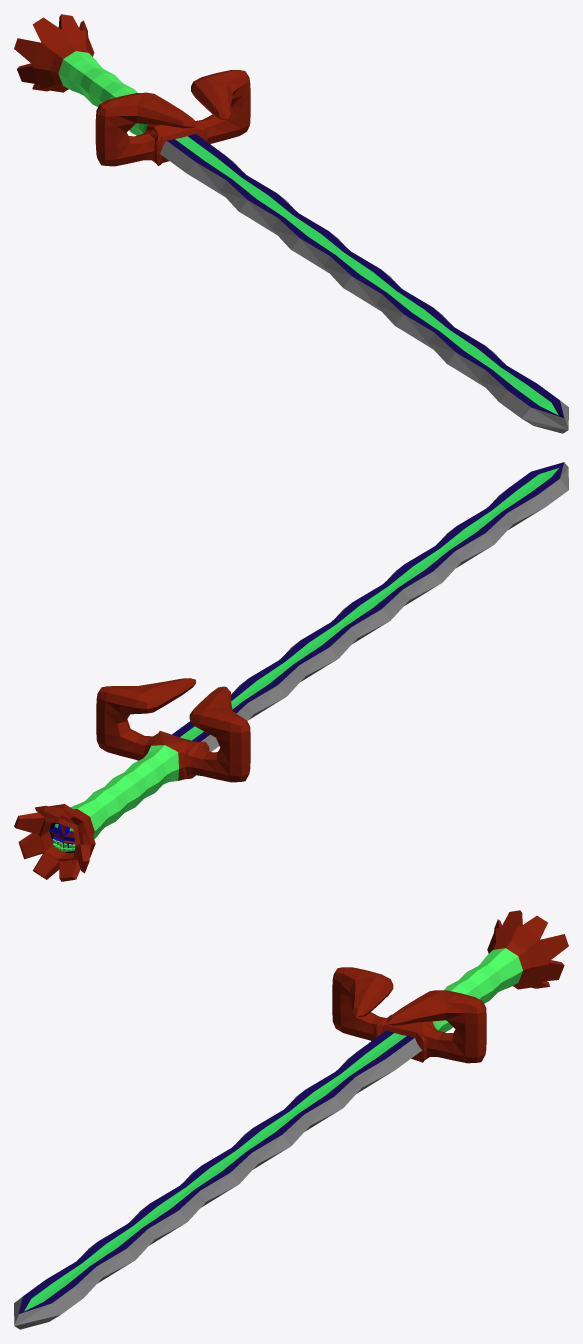
File: Sword2.dae
3 views of the same model, one above another, from view 1: azimuth 30°, elevation 25°; view 2: azimuth 150°, elevation 25°; view 3: azimuth 330°, elevation 25° (orthographic).
Visible parts, largest first — view 1: Cube, Cube.001; view 2: Cube.001, Cube; view 3: Cube, Cube.001.
Boxes of the visible parts, left/top/right/bottom form: Cube: left=159, top=134, right=568, bottom=433; Cube.001: left=14, top=14, right=250, bottom=166; Cube.001: left=14, top=678, right=250, bottom=881; Cube: left=172, top=462, right=568, bottom=751; Cube: left=14, top=1030, right=422, bottom=1329; Cube.001: left=332, top=910, right=568, bottom=1063.
Bounding box in the file's own units: 8.19 × 48.12 × 4.74.
